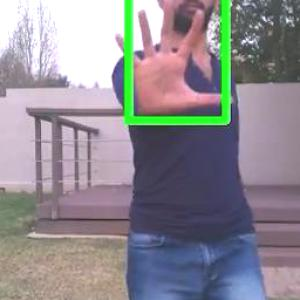follow_hand: (109, 0, 238, 121)
